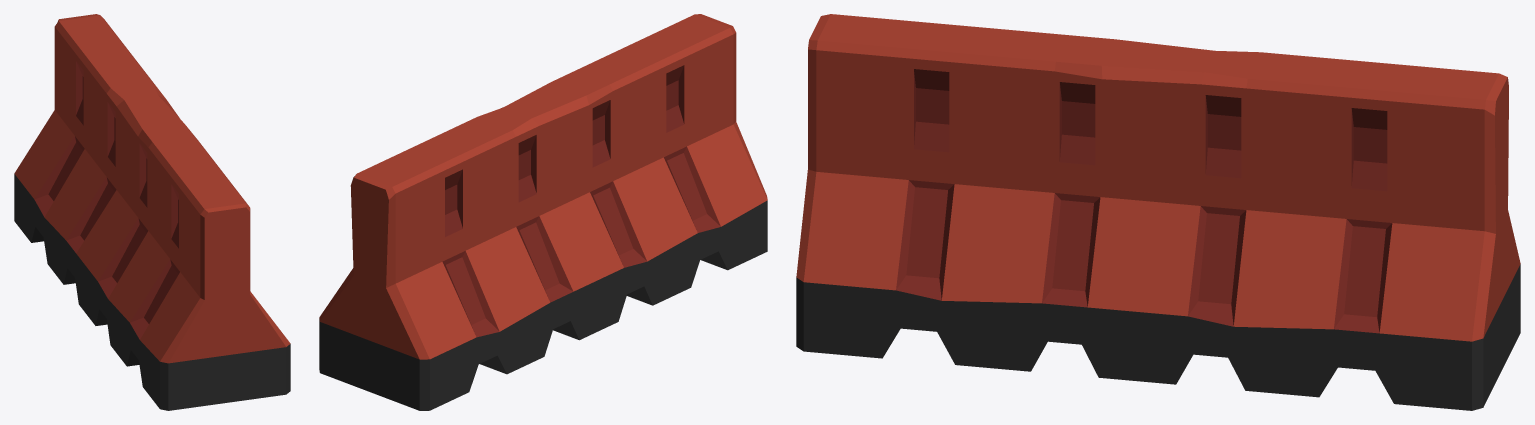
File: SM_Prop_Barrier_Plastic_01 (3).fbx
3 renders of one model, left to right at view 1: azimuth 30°, elevation 25°; view 2: azimuth 150°, elevation 25°; view 3: azimuth 270°, elevation 25°, orthographic. The views are drawn at different scales.
Parts seen in each view (by area): view 1: SM_Prop_Barrier_Plastic_01 (3); view 2: SM_Prop_Barrier_Plastic_01 (3); view 3: SM_Prop_Barrier_Plastic_01 (3).
Boxes of the visible parts, bbox=[...] form: SM_Prop_Barrier_Plastic_01 (3): bbox=[14, 14, 290, 410]; SM_Prop_Barrier_Plastic_01 (3): bbox=[319, 14, 767, 410]; SM_Prop_Barrier_Plastic_01 (3): bbox=[796, 14, 1520, 410].
Bounding box in the file's own units: 1.1 × 1.02 × 2.36.
